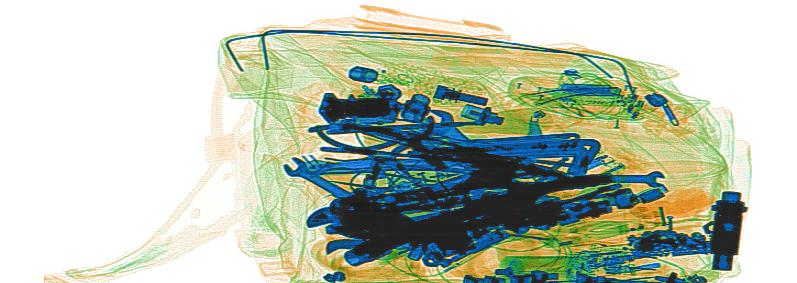battery: (557, 81, 620, 97)
